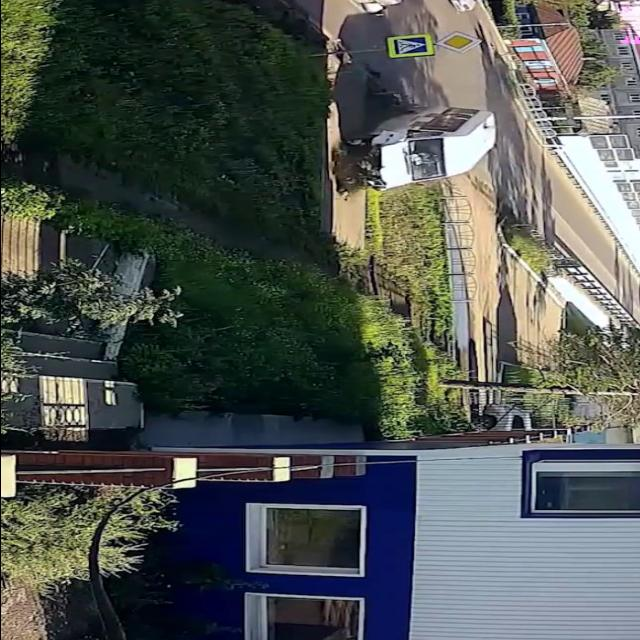accident: (313, 101, 501, 193), (301, 0, 423, 22)
